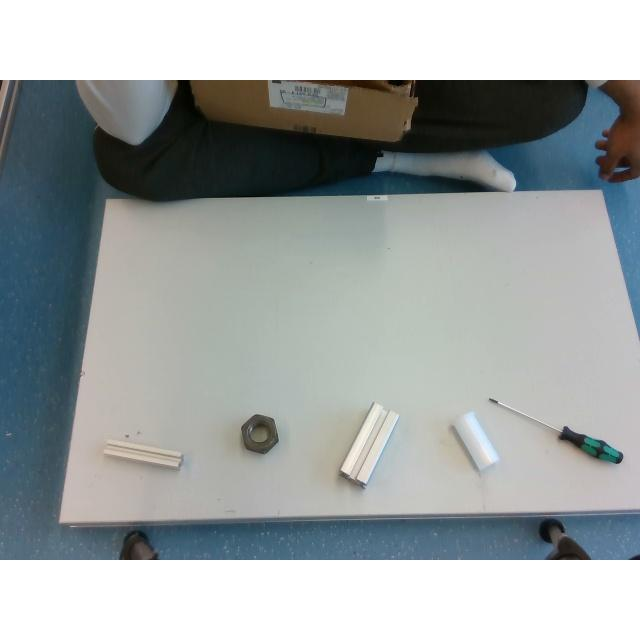F20_20_G: (102, 439, 182, 469)
M30: (242, 414, 278, 454)
S40_40_G: (338, 401, 398, 487)
Screwdriver: (489, 398, 623, 462)
Spacer: (453, 411, 499, 471)
